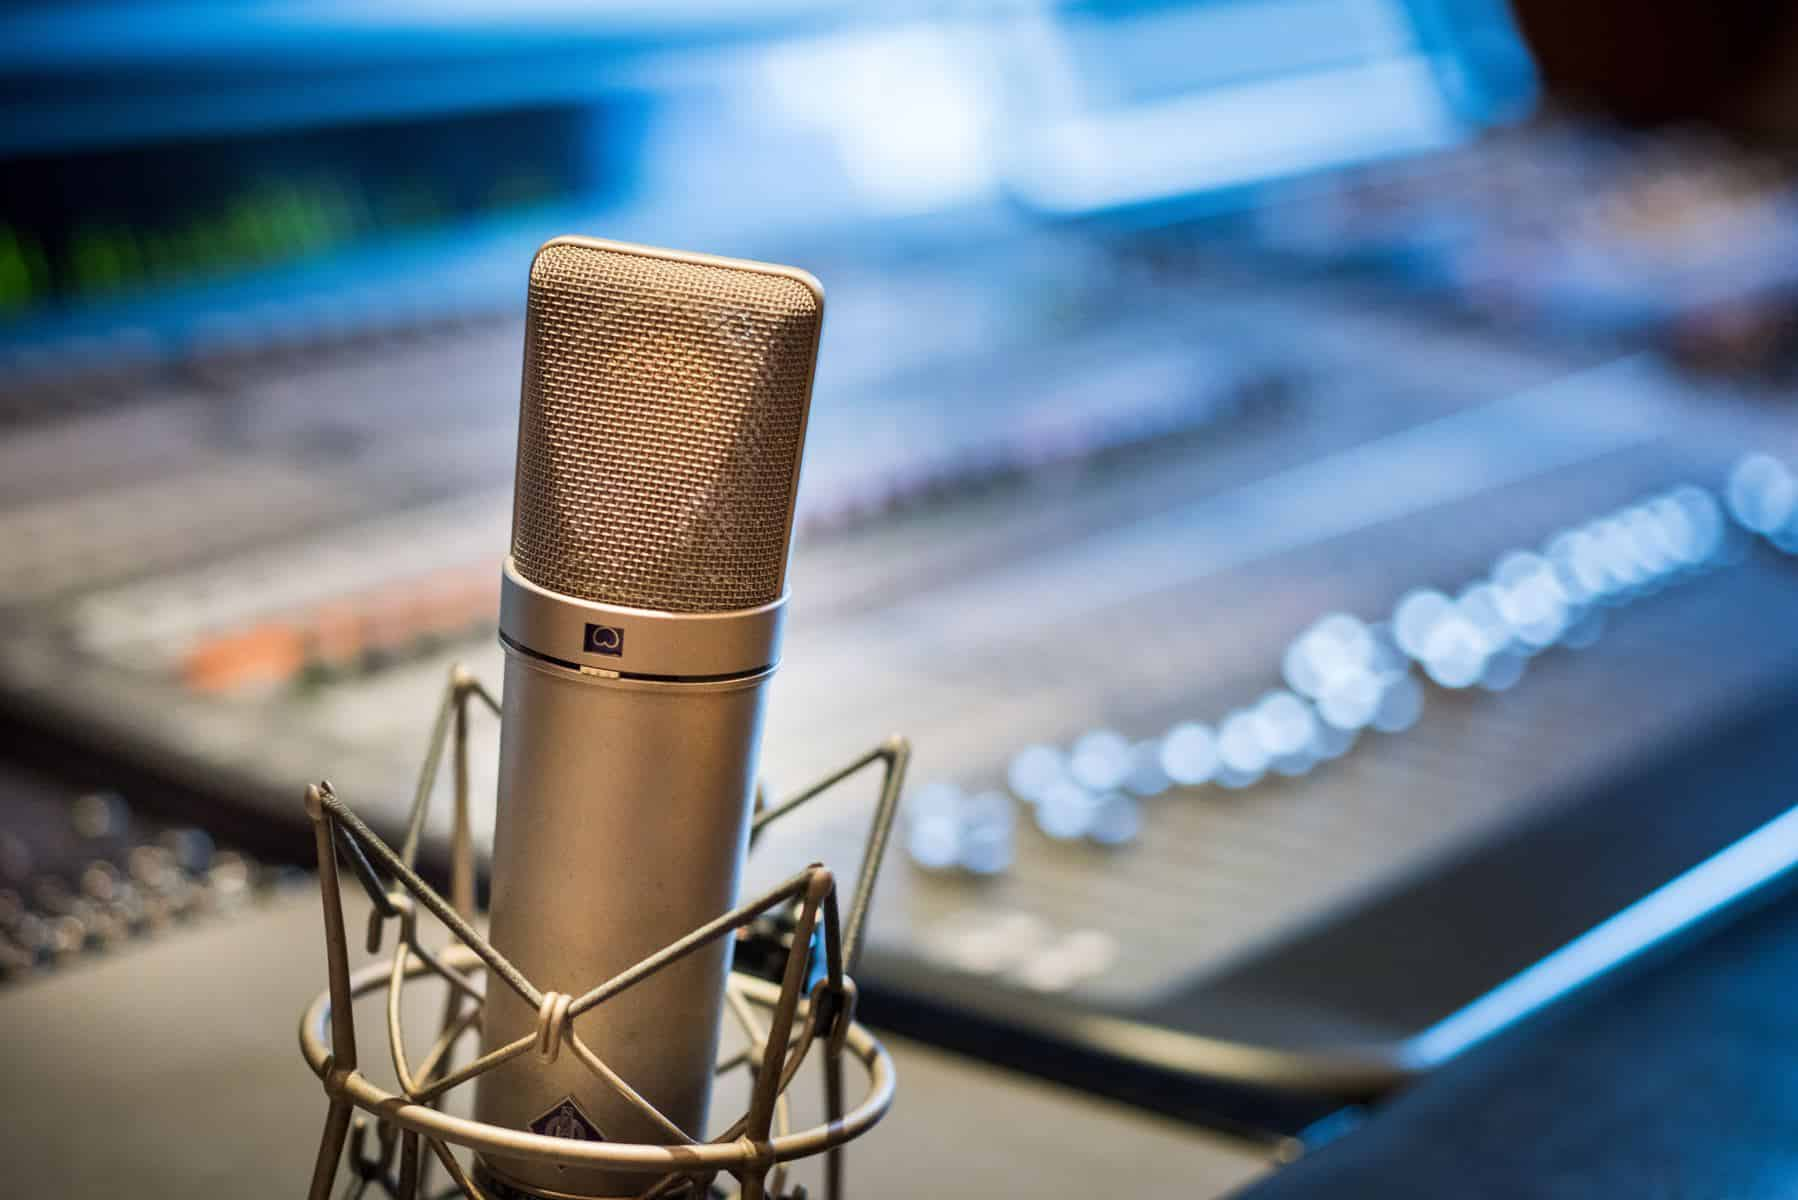microphone: (465, 230, 829, 1200)
